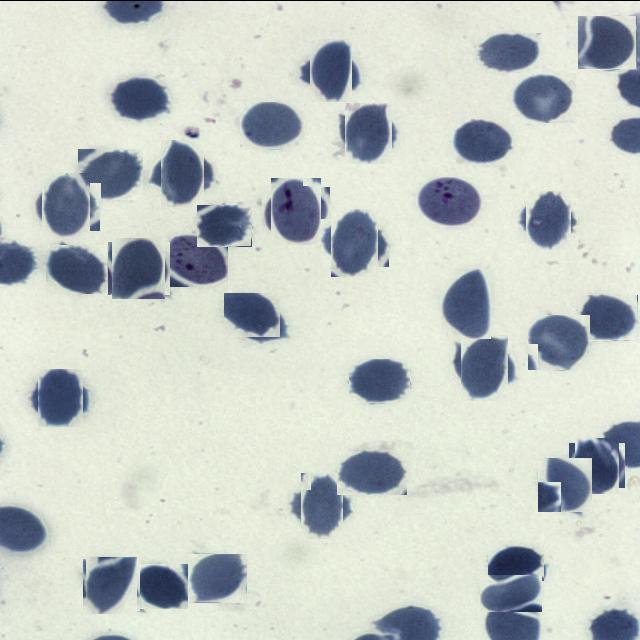red blood cell: (528, 314, 591, 370), (441, 268, 491, 338), (76, 148, 142, 199), (326, 213, 384, 271), (37, 177, 95, 234), (110, 239, 168, 296), (510, 72, 576, 122), (456, 338, 513, 395), (578, 15, 637, 69), (337, 449, 407, 494), (154, 144, 210, 200), (240, 101, 305, 149), (44, 244, 106, 293), (538, 457, 593, 512), (341, 105, 396, 159), (188, 553, 248, 602), (294, 478, 348, 532), (84, 557, 138, 611), (452, 118, 515, 164), (304, 44, 358, 96), (349, 358, 411, 403), (522, 193, 574, 246), (35, 371, 87, 423), (110, 75, 170, 120), (580, 294, 638, 340), (476, 32, 542, 72), (224, 292, 281, 337), (572, 439, 622, 490), (136, 563, 188, 608), (197, 204, 252, 246), (480, 574, 542, 611), (488, 542, 544, 580)
ring: (162, 233, 228, 286), (266, 182, 326, 240), (416, 176, 483, 226)
